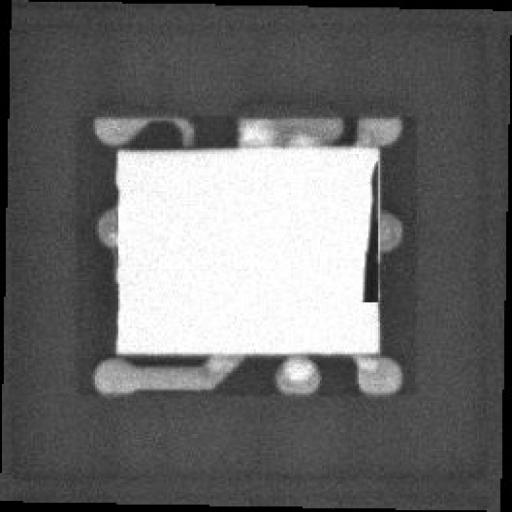DIE_BROKEN: (355, 158, 384, 306)
